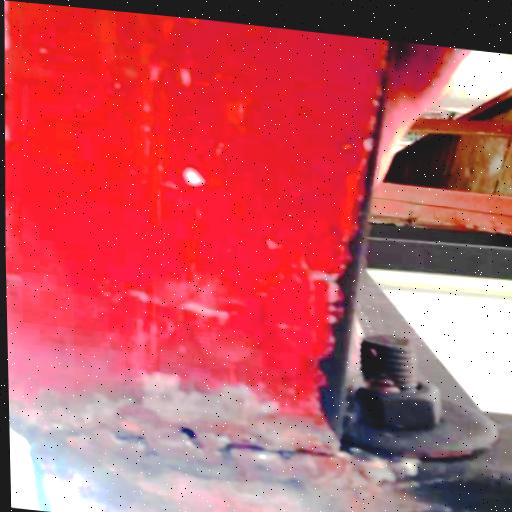crack: (30, 402, 344, 501)
